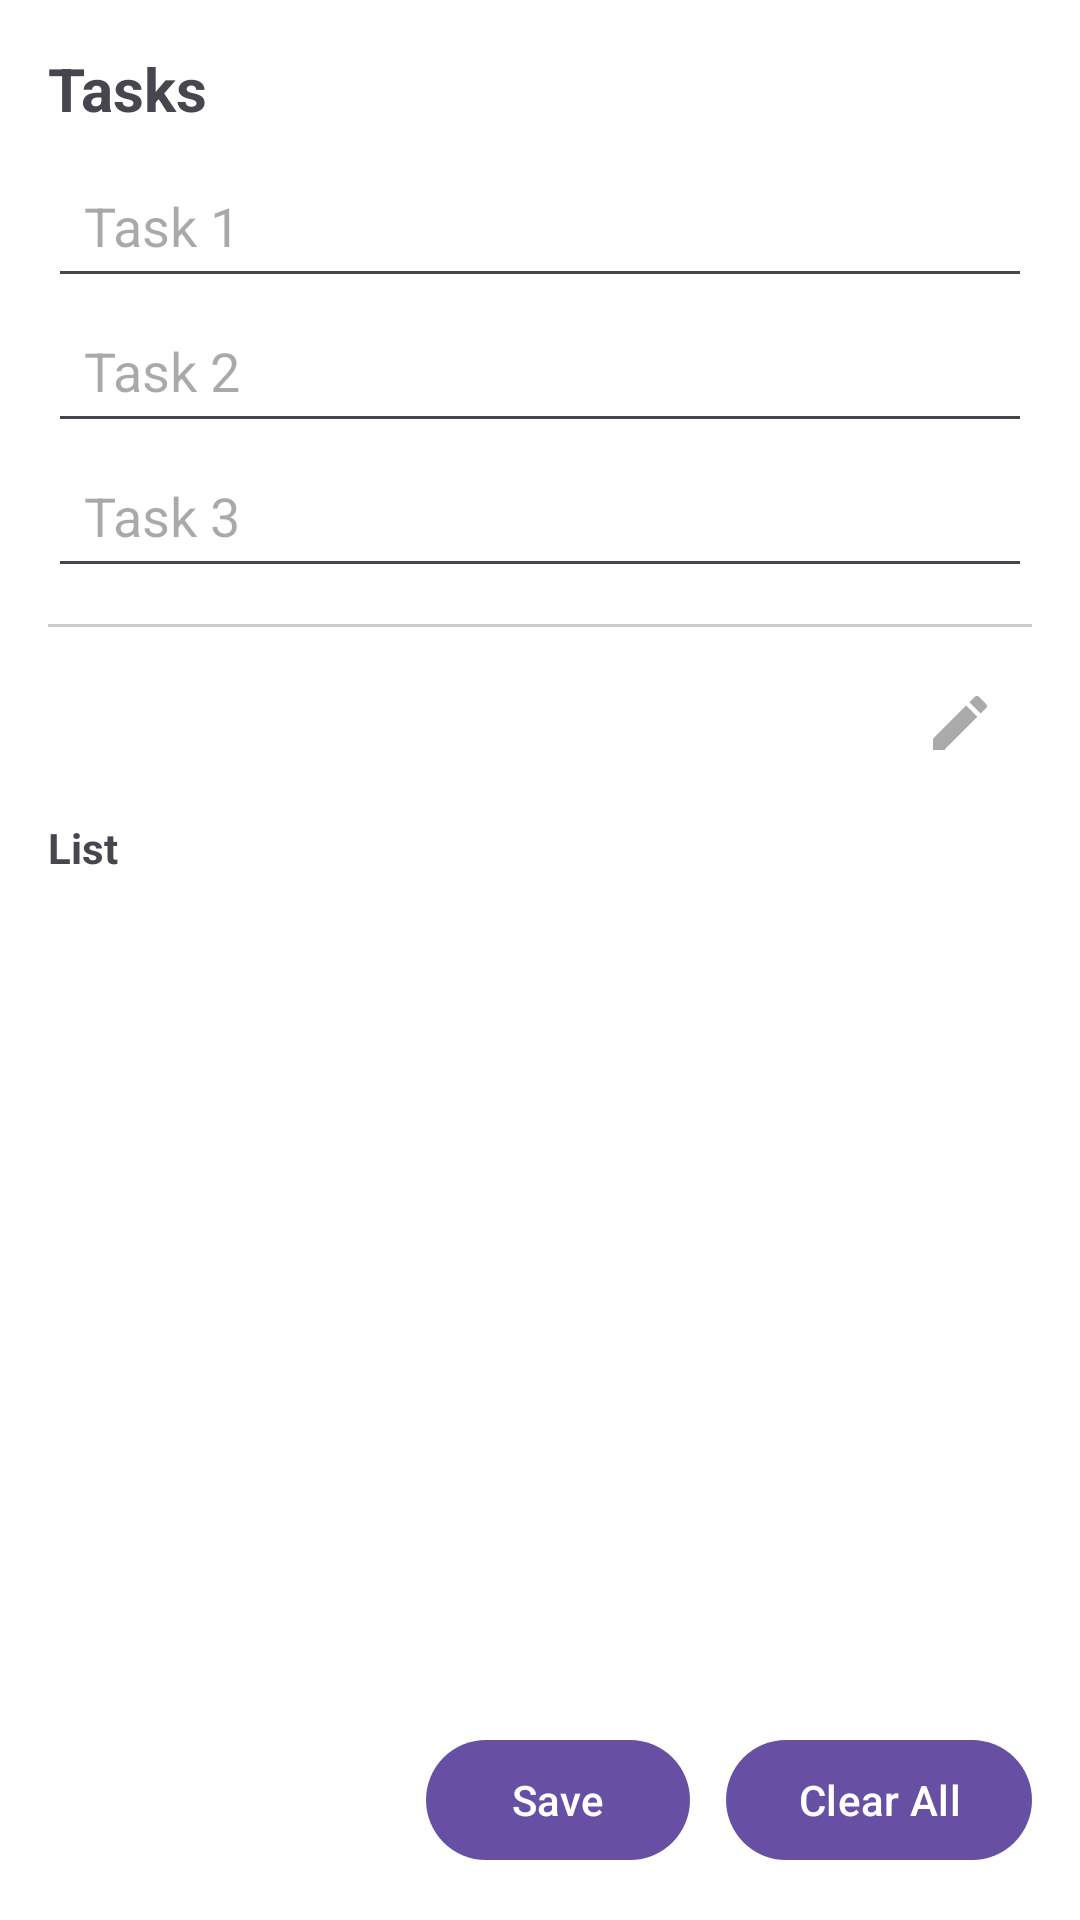

Icons on this 1080*1920 Android screen, each with the point to tap as (x=x, y=y):
Toggle edit mode: (x=960, y=723)
